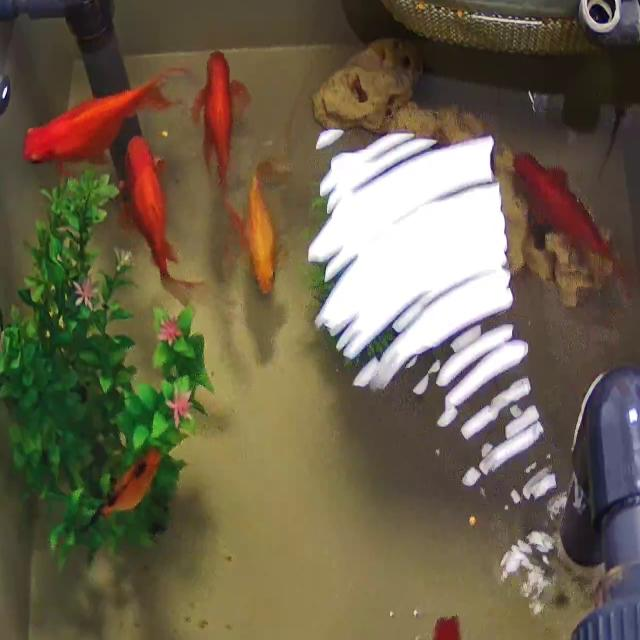fish: (498, 137, 640, 299), (22, 69, 188, 169), (120, 132, 205, 294), (189, 50, 249, 190), (342, 596, 472, 640), (244, 166, 280, 297), (97, 447, 163, 518)
